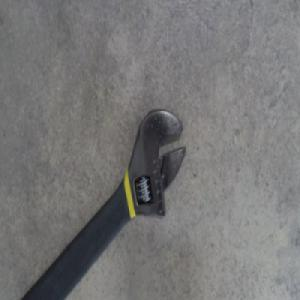AdjustableWrench: (27, 107, 186, 296)
